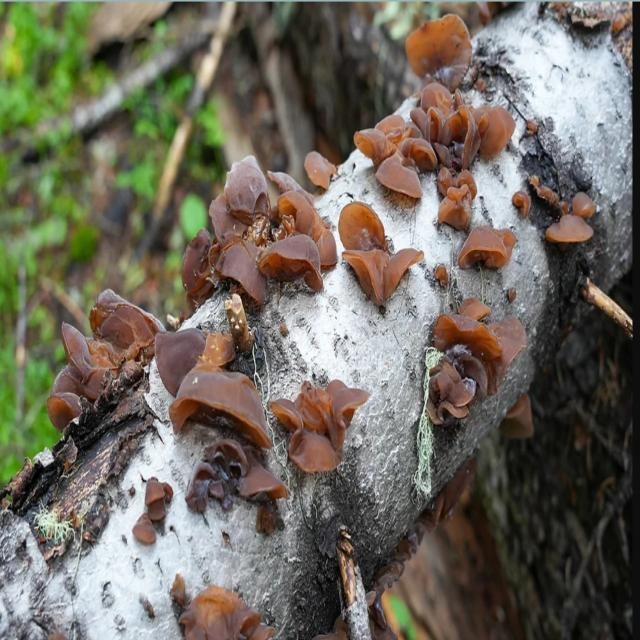Fase Muda: (406, 26, 522, 280), (165, 316, 282, 528), (183, 166, 337, 307), (53, 292, 157, 431), (336, 121, 407, 313), (420, 303, 526, 429), (271, 381, 369, 487), (531, 170, 603, 259), (298, 146, 344, 202)
